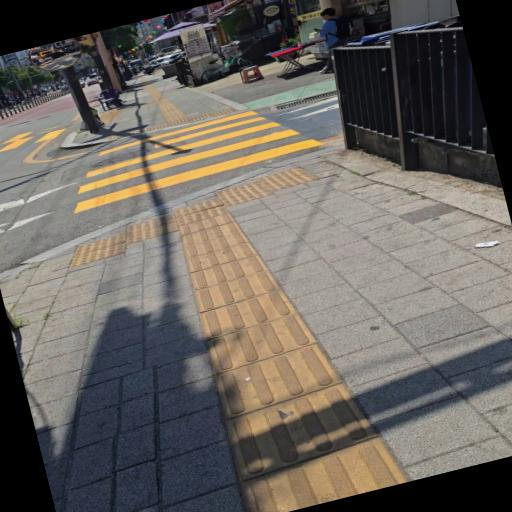yellow-crosswalk: (44, 86, 334, 228), (0, 110, 97, 169)
